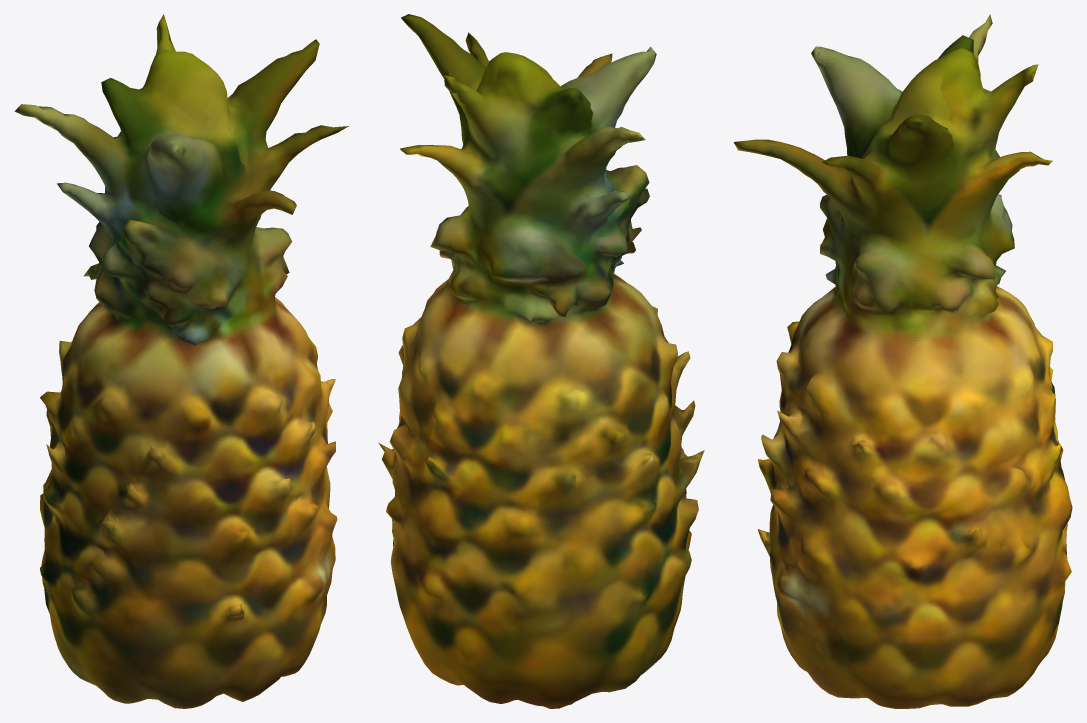
File: pineapple.glb
3 views of the same model, side by side, from view 1: azimuth 30°, elevation 25°; view 2: azimuth 150°, elevation 25°; view 3: azimuth 270°, elevation 25° (orthographic). The views are drawn at different scales.
Parts seen in each view (by area): view 1: Mesh1; view 2: Mesh1; view 3: Mesh1.
Part boxes in pixels (x1,y1,x2,y2): Mesh1: (14, 14, 348, 708); Mesh1: (378, 14, 704, 708); Mesh1: (733, 14, 1072, 708).
Size of the model in its own units: 0.5594 by 1.2 by 0.5793.
1 material, 1 textured.
